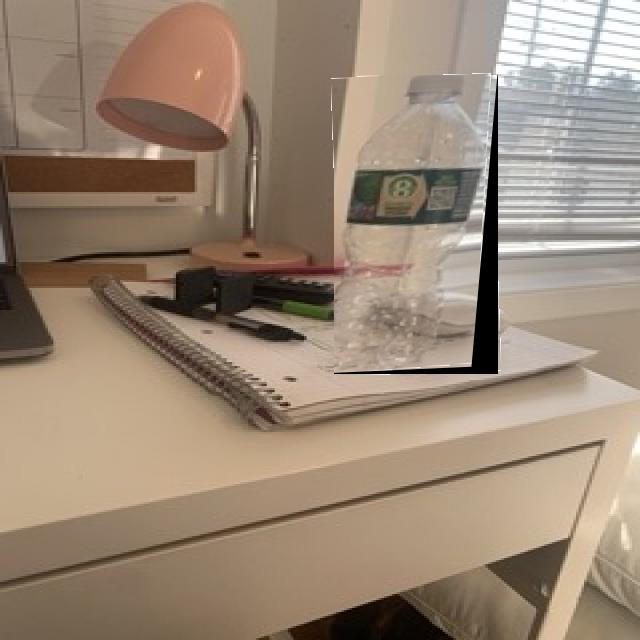water_bottle: (334, 75, 498, 374)
